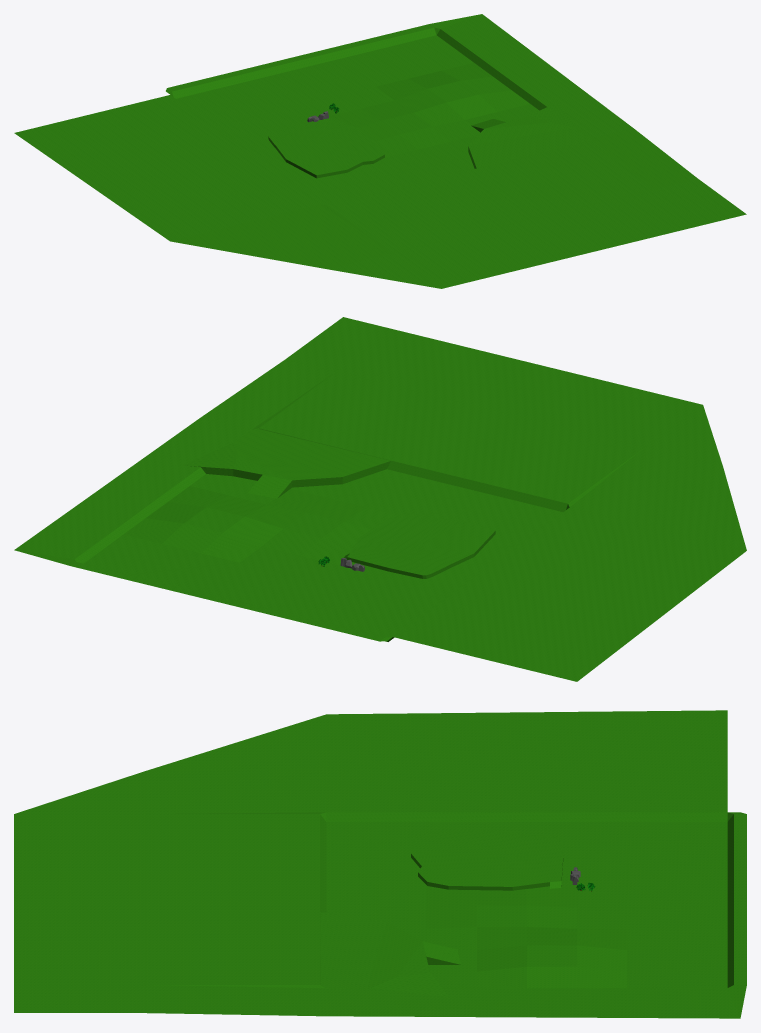
The model's file is LOC1.fbx.
3 views of the same model, one above another, from view 1: azimuth 30°, elevation 25°; view 2: azimuth 150°, elevation 25°; view 3: azimuth 270°, elevation 25° (orthographic). The views are drawn at different scales.
Parts seen in each view (by area): view 1: Plane, Plane.001, Plane.002; view 2: Plane, Plane.002, Plane.001; view 3: Plane, Plane.001, Plane.002.
Part boxes in pixels (x1,y1,x2,y2): Plane: [14, 14, 746, 288]; Plane.001: [268, 118, 384, 178]; Plane.002: [468, 102, 593, 168]; Plane: [14, 317, 746, 681]; Plane.002: [183, 427, 390, 498]; Plane.001: [344, 513, 495, 578]; Plane: [14, 710, 746, 1018]; Plane.001: [411, 830, 563, 890]; Plane.002: [320, 912, 460, 996].
Size of the model in its own units: 264516 by 10020 by 265843.
